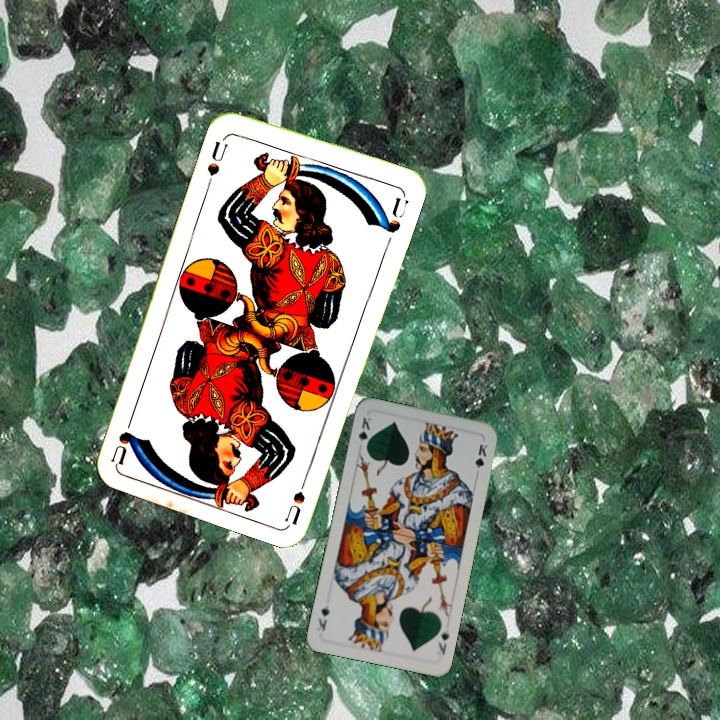GK: (354, 413, 374, 453), (433, 625, 452, 657)
SU: (281, 466, 312, 525), (203, 131, 231, 189)
